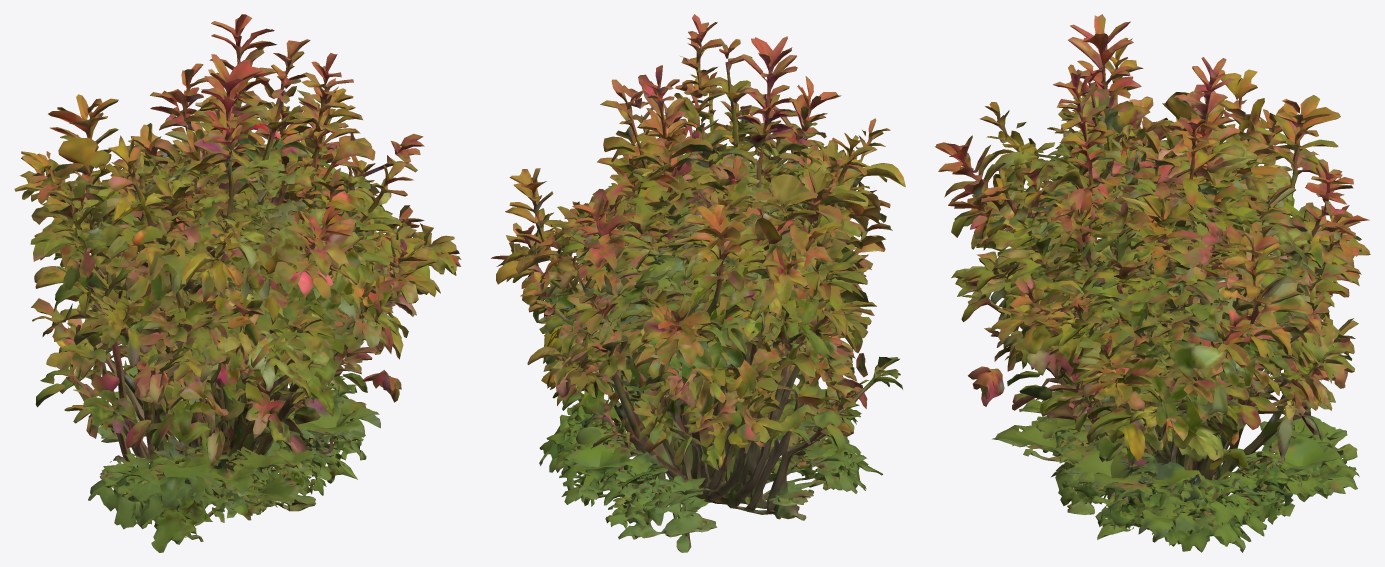
File: Bush_01.fbx
The picture shows the model from 3 angles, left to right: view 1: azimuth 30°, elevation 25°; view 2: azimuth 150°, elevation 25°; view 3: azimuth 270°, elevation 25°; orthographic projection. The views are drawn at different scales.
Parts seen in each view (by area): view 1: geometry_0; view 2: geometry_0; view 3: geometry_0.
Boxes of the visible parts, bbox=[...] form: geometry_0: bbox=[14, 14, 461, 552]; geometry_0: bbox=[491, 14, 905, 552]; geometry_0: bbox=[935, 14, 1370, 552].
Bounding box in the file's own units: 135 × 150 × 129.
